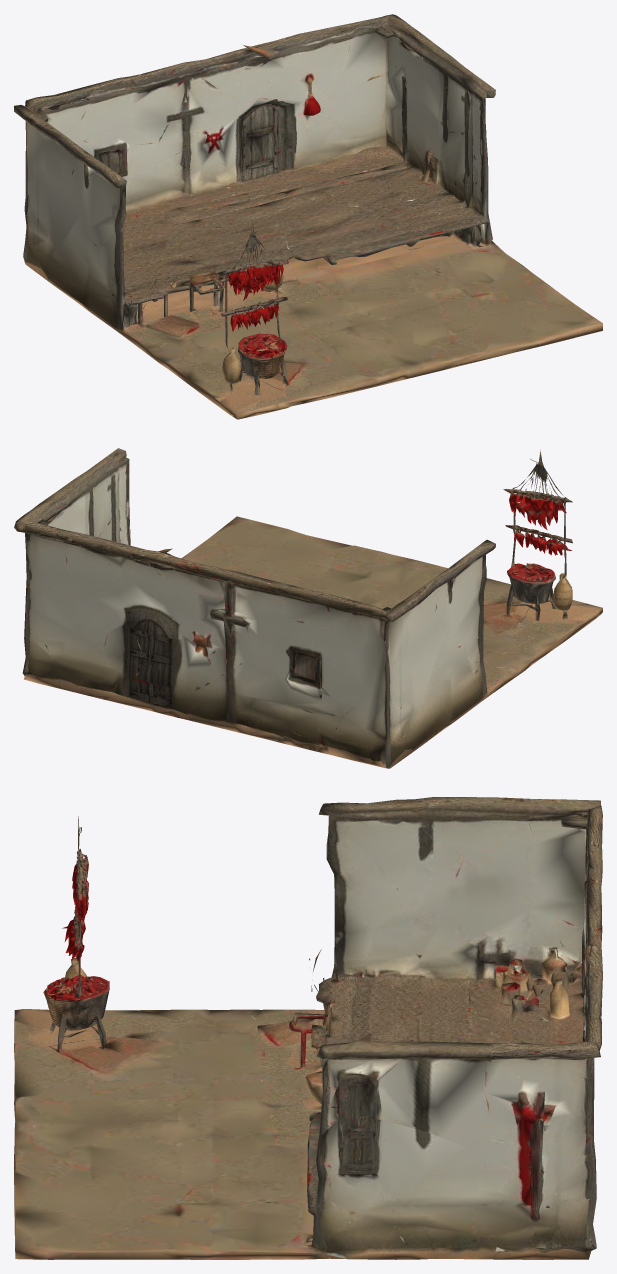
The model's file is gewuerzplantage.glb.
The picture shows the model from 3 angles, top to bottom: view 1: azimuth 30°, elevation 25°; view 2: azimuth 150°, elevation 25°; view 3: azimuth 270°, elevation 25°; orthographic projection. The views are drawn at different scales.
Size of the model in its own units: 1.9 by 0.8168 by 1.88.
1 material, 1 textured.
